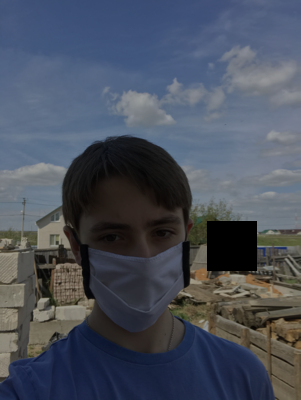with_mask: (78, 199, 191, 333)
